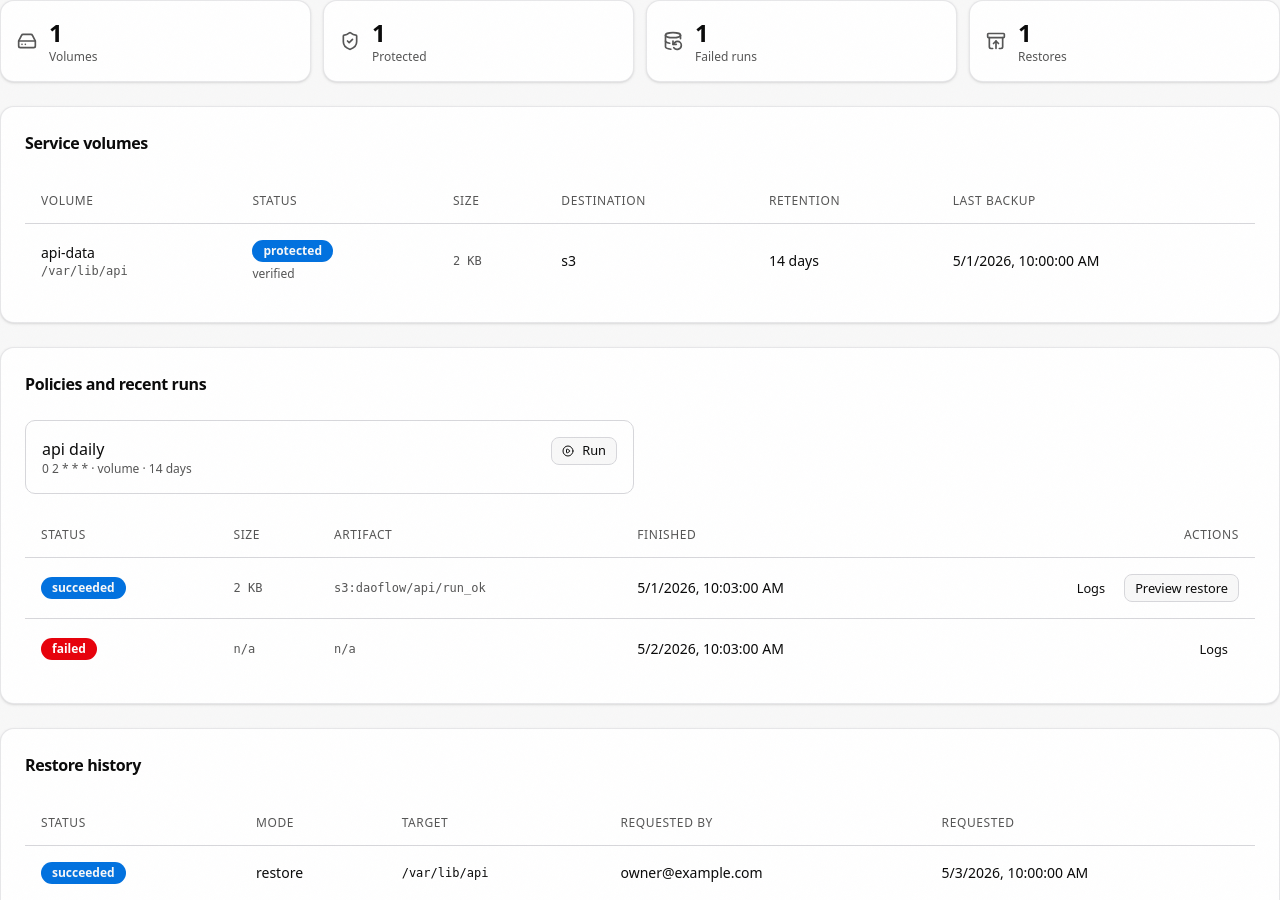
BackupsTab › queues manual backups from the service policy
Click the button with test id "service-backups-run-pol_api" at [584, 450], box [551, 436, 617, 464]
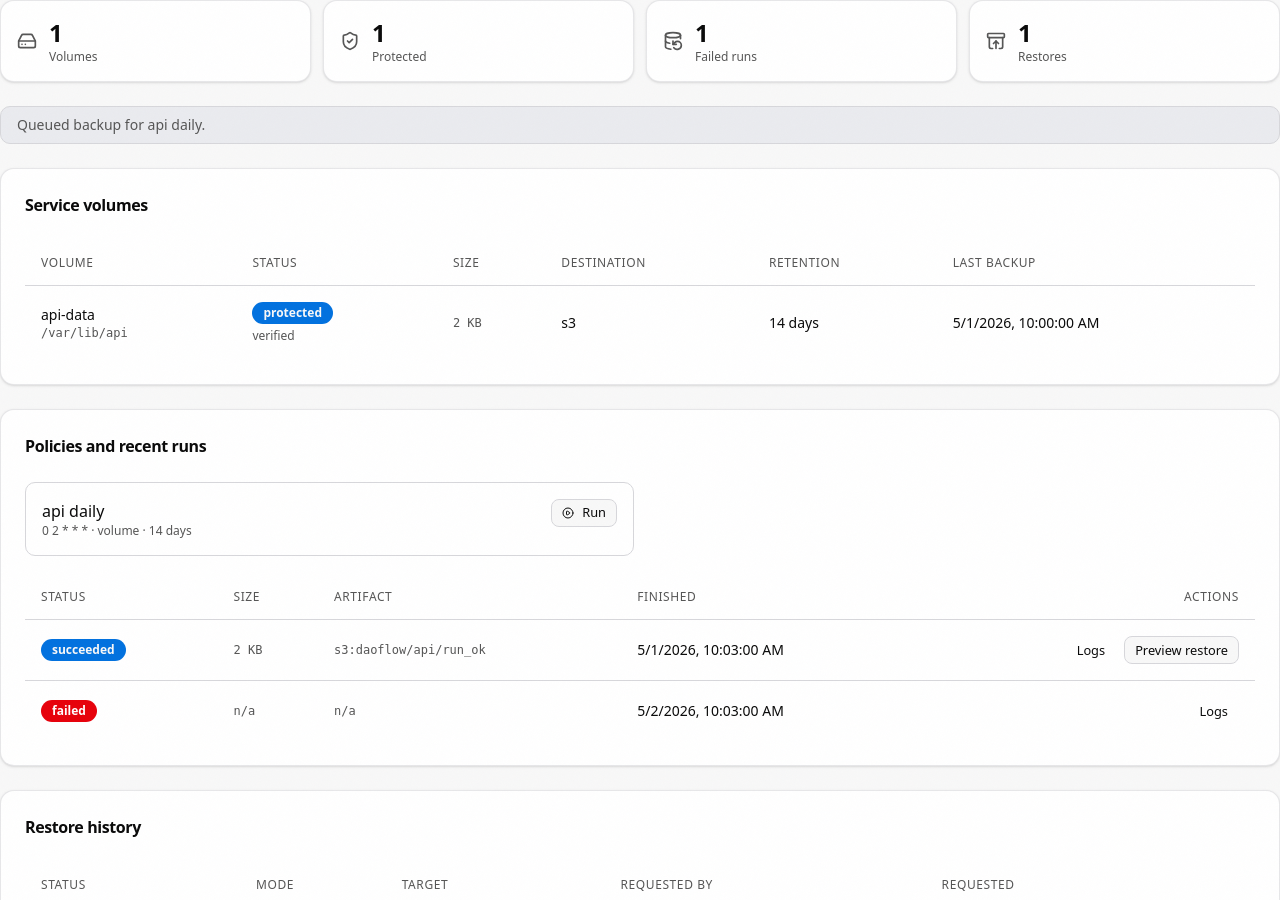
Now the text with test id "service-backups-feedback" reads "Queued backup for api daily.", box [17, 115, 205, 134]
